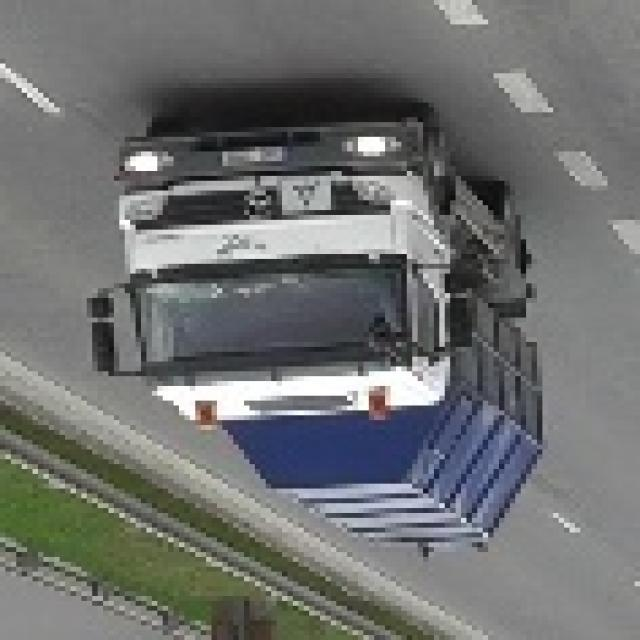truck: (81, 98, 542, 557)
